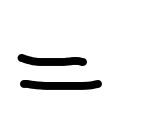eqv: (15, 53, 108, 93)
